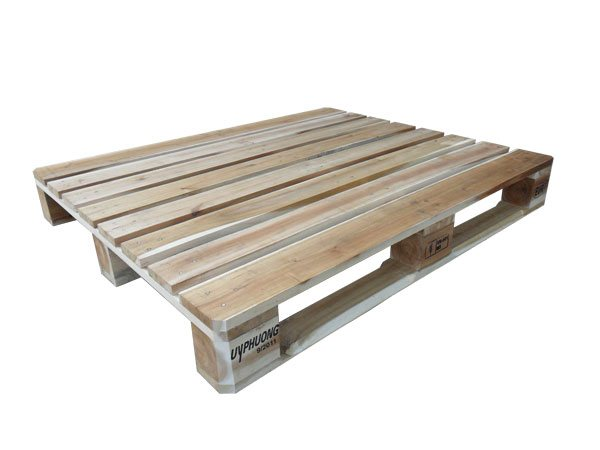pallet: (13, 76, 563, 398)
